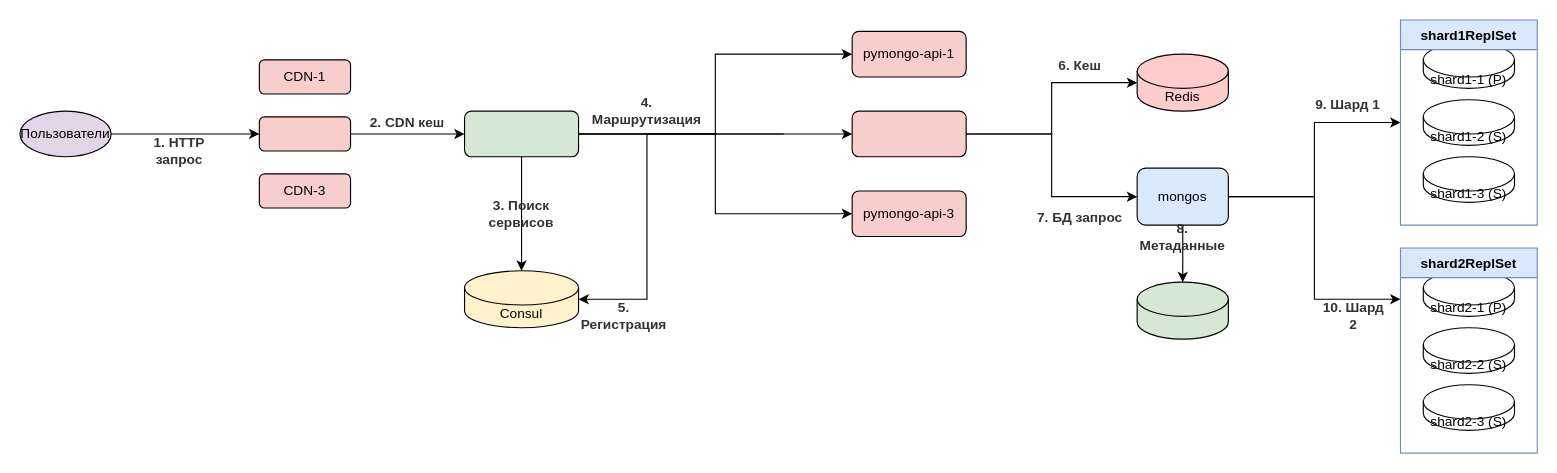
Image size: 1557x473. Some labels were removed from this diagram. The shapes that lost their labels are listed below. From the top down, each one's box as (x1, y1, x2, y2) in pixels, then its label:
(258, 116, 351, 151): CDN-2
(463, 110, 579, 157): API Gateway
(851, 110, 966, 157): pymongo-api-2
(1136, 281, 1228, 339): configSrv
